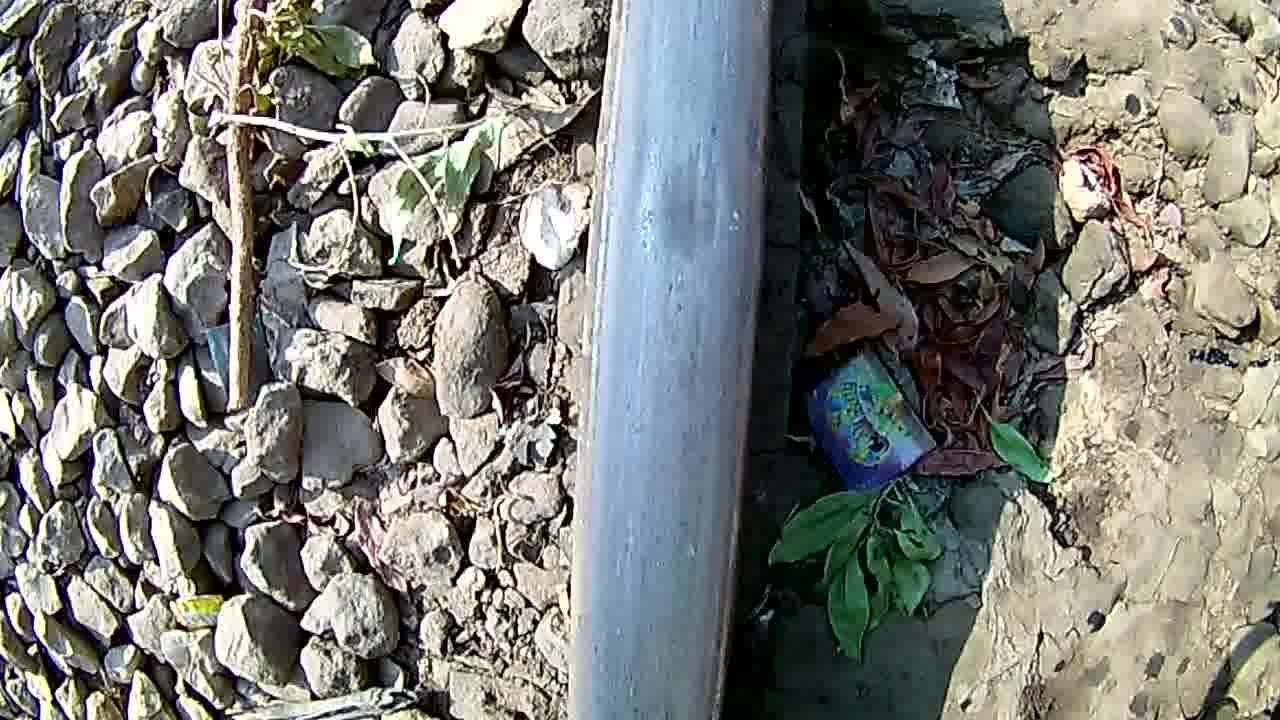bolt_missing: (609, 72, 786, 322)
